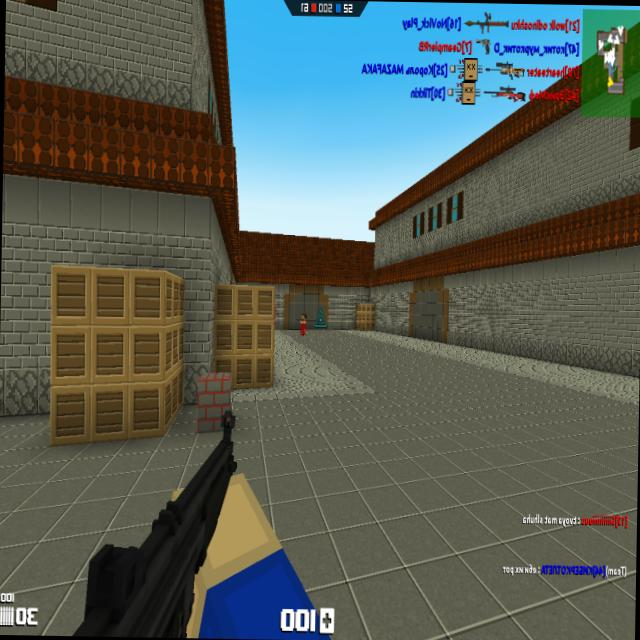enemy: (299, 312, 307, 336), (274, 302, 277, 324)
